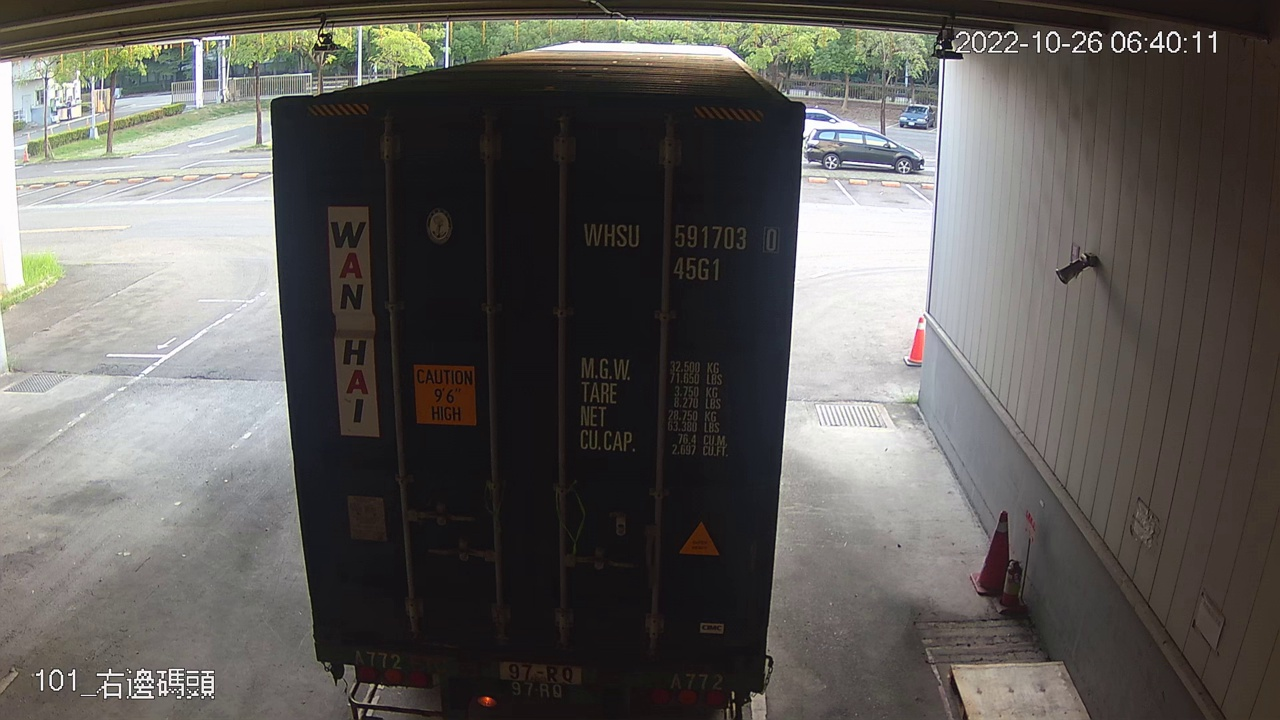container: (578, 210, 785, 284)
